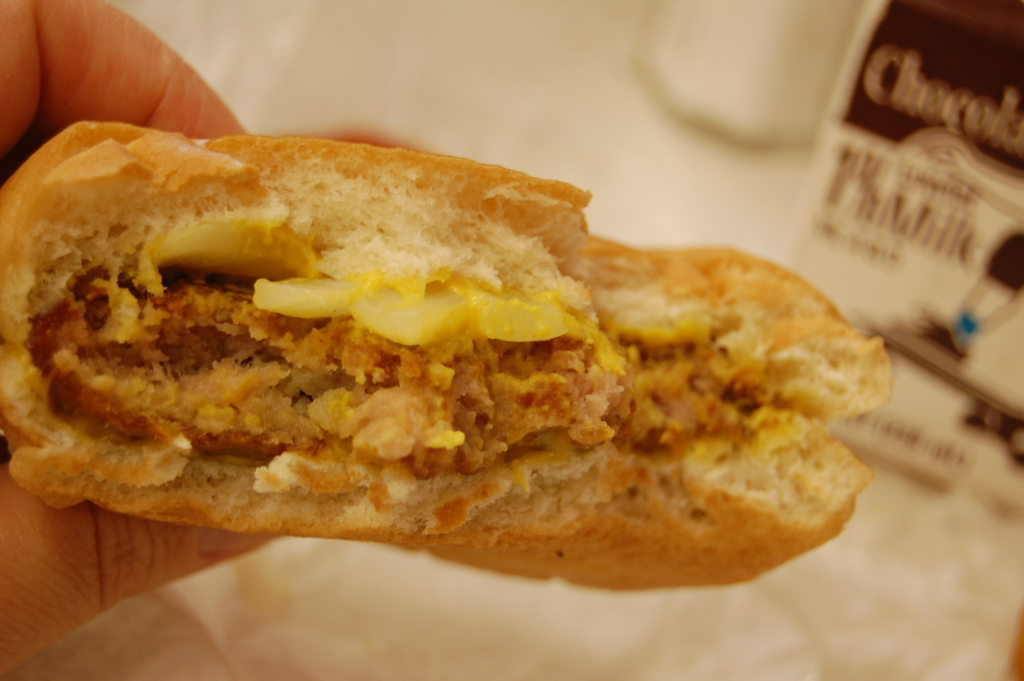sandwich: (0, 116, 891, 590)
